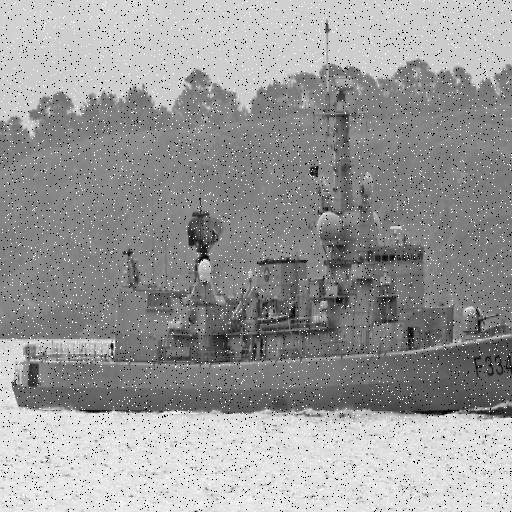Fragata: (9, 16, 512, 424)
